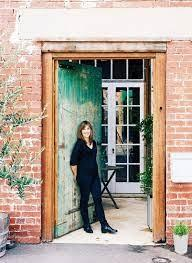FallenBody: (65, 118, 118, 240)
